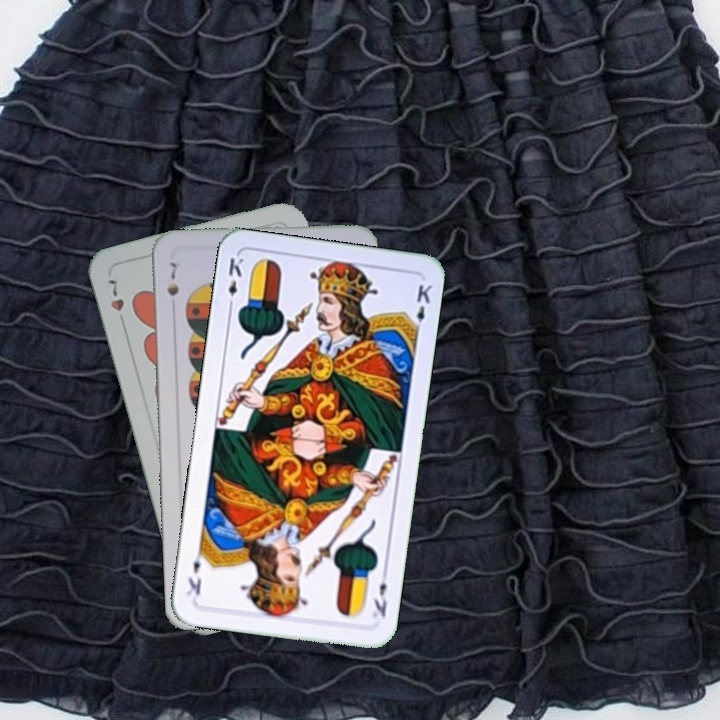EK: (224, 253, 246, 312), (369, 566, 390, 620)
H7: (104, 275, 128, 330)
S7: (163, 258, 182, 299)
